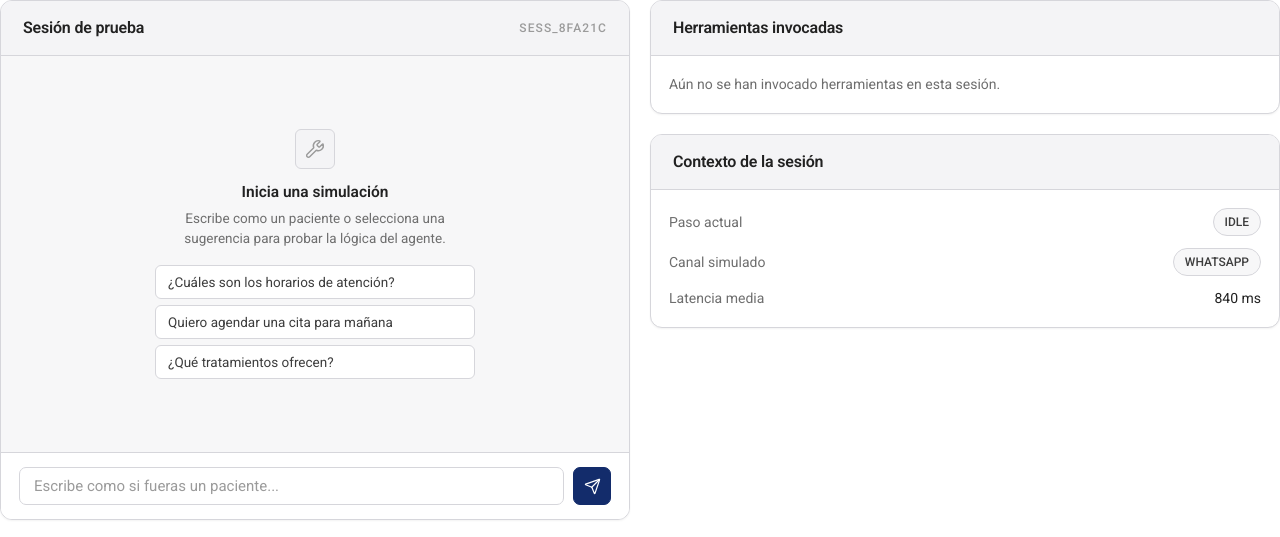
Test: SimulatorChat Component Organism — Chat UI & Experience › renders user and agent messages with correct visual alignment
Expected: the text "Inicia una simulación" is shown, [242,183,388,201]
Expected: the text "sess_8fa21c" is shown, [519,19,607,37]
Type "Hola bot" into the field with placeholder "Escribe como si fueras un paciente..." at (292, 486), box [19,467,564,505]
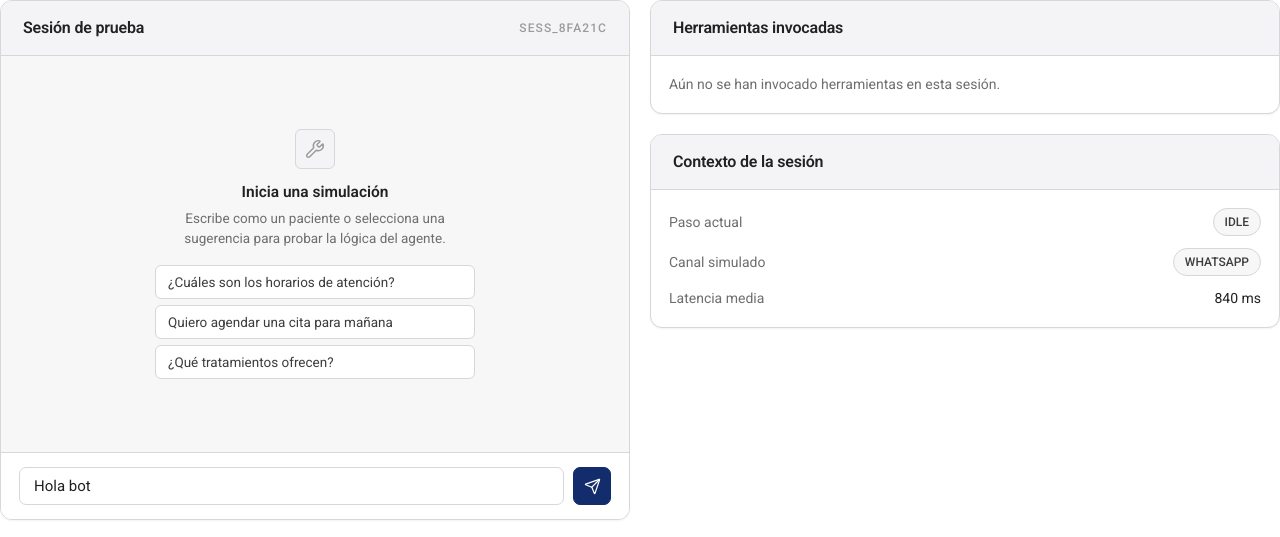
Click the button with test id "chat-send-btn" at (592, 486), box [573,467,611,505]
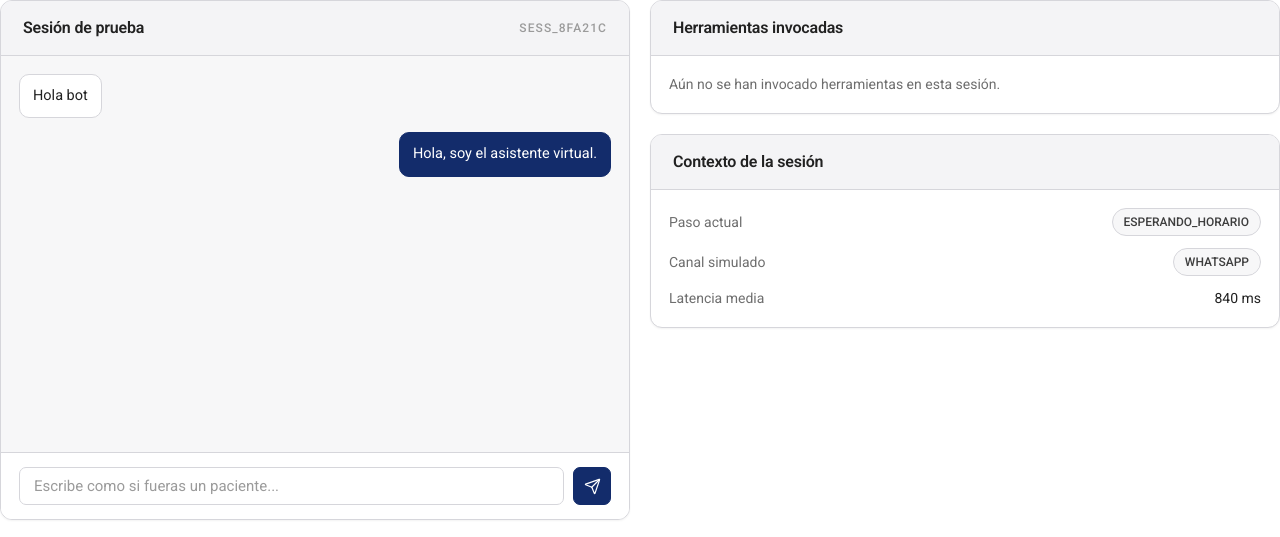
Now the element with test id "message-user" reads "Hola bot", box [33,87,88,104]
Now the element with test id "message-agent" reads "Hola, soy el asistente virtual.", box [413,146,597,162]
